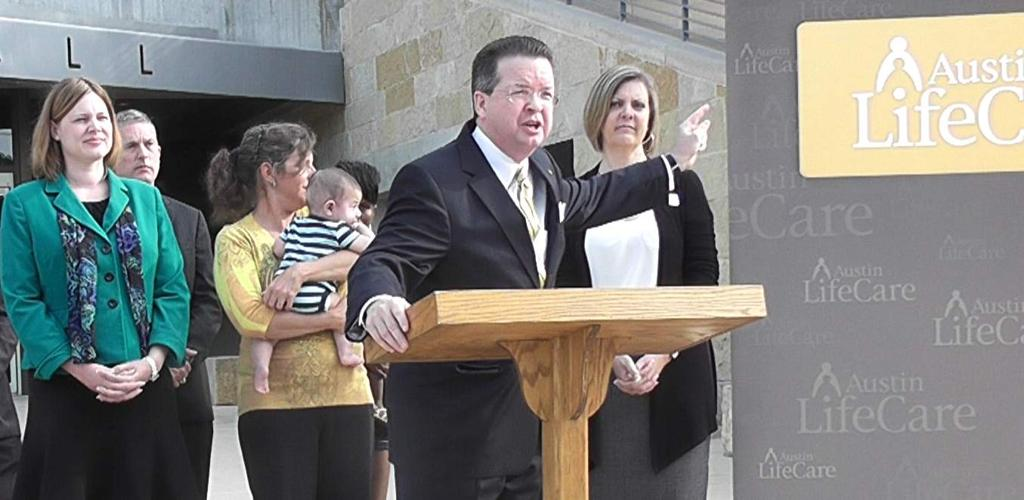face: (486, 56, 554, 148), (58, 91, 113, 159), (601, 79, 649, 147), (113, 121, 161, 183), (276, 145, 317, 205), (333, 192, 361, 226)
